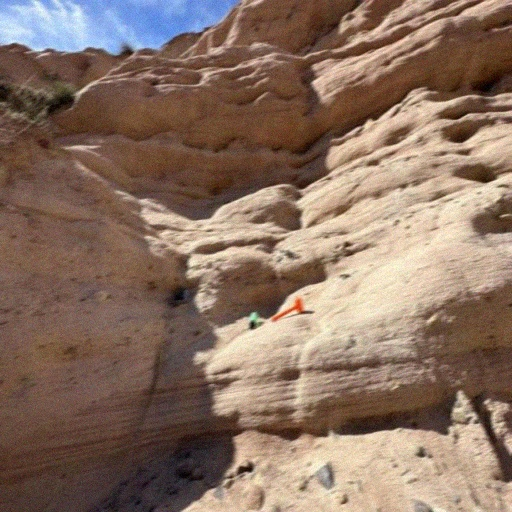bottle: (248, 312, 259, 330)
mallet: (272, 297, 304, 322)
